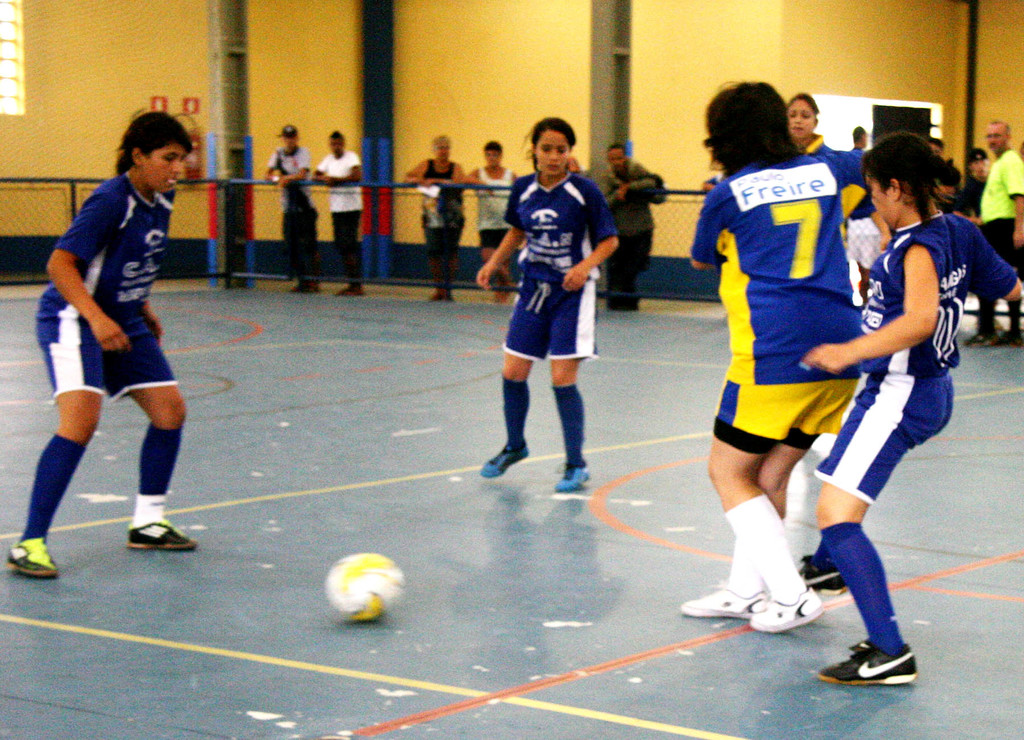Person: (806, 129, 1024, 684), (677, 78, 891, 634), (4, 112, 192, 578), (480, 116, 618, 493), (601, 143, 663, 313), (401, 134, 465, 298), (311, 127, 362, 298), (466, 143, 516, 302), (261, 126, 308, 295), (958, 148, 991, 228)
